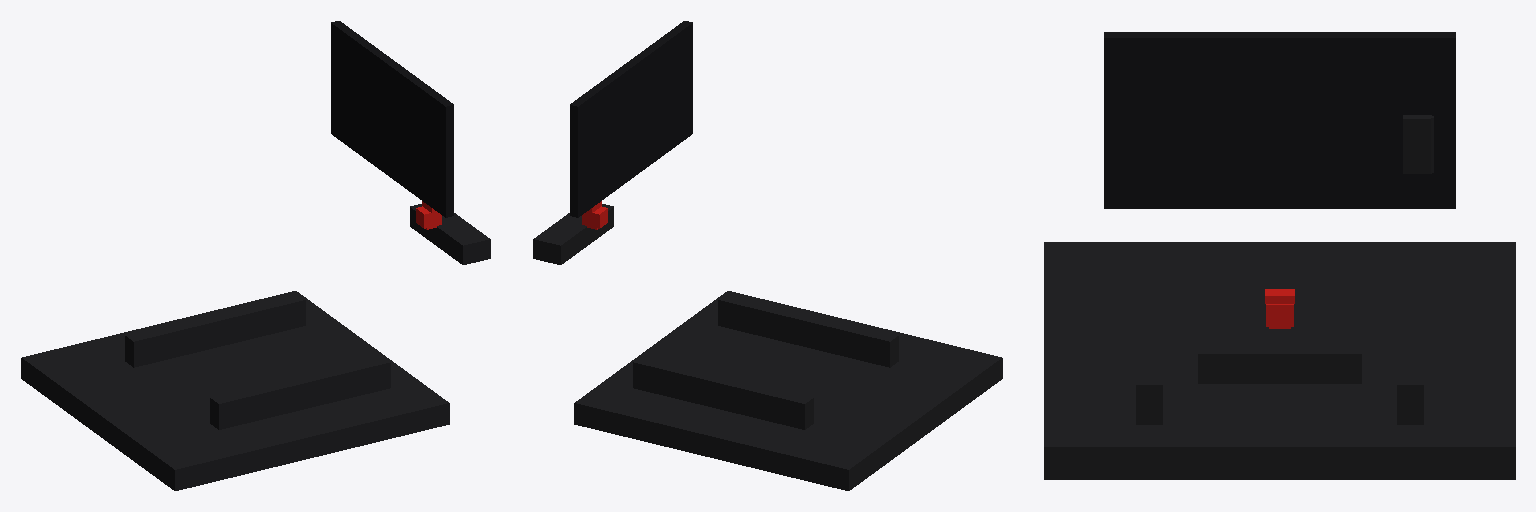
robot.urdf — retro_stainless_air_fryer:
<robot name="retro_stainless_air_fryer">
  <material name="stainless">
    <color rgba="0.78 0.8 0.82 1" />
    </material>
  <material name="panel_black">
    <color rgba="0.11 0.11 0.12 1" />
    </material>
  <material name="trim_black">
    <color rgba="0.15 0.15 0.16 1" />
    </material>
  <material name="basket_dark">
    <color rgba="0.17 0.17 0.18 1" />
    </material>
  <material name="knob_black">
    <color rgba="0.1 0.1 0.11 1" />
    </material>
  <material name="latch_red">
    <color rgba="0.82 0.14 0.12 1" />
    </material>
  <link name="body">
    <visual name="housing_shell">
      <geometry>
        <mesh filename="assets/meshes/air_fryer_body_shell.obj" />
        </geometry>
      <material name="stainless">
        <color rgba="0.78 0.8 0.82 1" />
        </material>
      </visual>
    <visual name="base_band">
      <origin xyz="-0.002 0 0.012" rpy="0 0 0" />
      <geometry>
        <box size="0.32 0.31 0.024" />
        </geometry>
      <material name="trim_black">
        <color rgba="0.15 0.15 0.16 1" />
        </material>
      </visual>
    <visual name="control_panel">
      <origin xyz="0.181 0 0.272" rpy="0 0 0" />
      <geometry>
        <box size="0.01 0.232 0.124" />
        </geometry>
      <material name="panel_black">
        <color rgba="0.11 0.11 0.12 1" />
        </material>
      </visual>
    <visual name="switch_bezel">
      <origin xyz="0.181 0.09 0.258" rpy="0 0 0" />
      <geometry>
        <box size="0.01 0.034 0.052" />
        </geometry>
      <material name="panel_black">
        <color rgba="0.11 0.11 0.12 1" />
        </material>
      </visual>
    <visual name="drawer_guide_0">
      <origin xyz="0.024 -0.086 0.038" rpy="0 0 0" />
      <geometry>
        <box size="0.2 0.018 0.03" />
        </geometry>
      <material name="trim_black">
        <color rgba="0.15 0.15 0.16 1" />
        </material>
      </visual>
    <visual name="drawer_guide_1">
      <origin xyz="0.024 0.086 0.038" rpy="0 0 0" />
      <geometry>
        <box size="0.2 0.018 0.03" />
        </geometry>
      <material name="trim_black">
        <color rgba="0.15 0.15 0.16 1" />
        </material>
      </visual>
    <visual>
      <origin xyz="-0.115 -0.105 0.004" rpy="0 0 0" />
      <geometry>
        <cylinder radius="0.018" length="0.01" />
        </geometry>
      <material name="trim_black">
        <color rgba="0.15 0.15 0.16 1" />
        </material>
      </visual>
    <visual>
      <origin xyz="-0.115 0.105 0.004" rpy="0 0 0" />
      <geometry>
        <cylinder radius="0.018" length="0.01" />
        </geometry>
      <material name="trim_black">
        <color rgba="0.15 0.15 0.16 1" />
        </material>
      </visual>
    <visual>
      <origin xyz="0.115 -0.105 0.004" rpy="0 0 0" />
      <geometry>
        <cylinder radius="0.018" length="0.01" />
        </geometry>
      <material name="trim_black">
        <color rgba="0.15 0.15 0.16 1" />
        </material>
      </visual>
    <visual>
      <origin xyz="0.115 0.105 0.004" rpy="0 0 0" />
      <geometry>
        <cylinder radius="0.018" length="0.01" />
        </geometry>
      <material name="trim_black">
        <color rgba="0.15 0.15 0.16 1" />
        </material>
      </visual>
    <collision name="housing_shell">
      <geometry>
        <mesh filename="assets/meshes/air_fryer_body_shell.obj" />
        </geometry>
      </collision>
    <collision name="base_band">
      <origin xyz="-0.002 0 0.012" rpy="0 0 0" />
      <geometry>
        <box size="0.32 0.31 0.024" />
        </geometry>
      </collision>
    <collision name="control_panel">
      <origin xyz="0.181 0 0.272" rpy="0 0 0" />
      <geometry>
        <box size="0.01 0.232 0.124" />
        </geometry>
      </collision>
    <collision name="switch_bezel">
      <origin xyz="0.181 0.09 0.258" rpy="0 0 0" />
      <geometry>
        <box size="0.01 0.034 0.052" />
        </geometry>
      </collision>
    <collision name="drawer_guide_0">
      <origin xyz="0.024 -0.086 0.038" rpy="0 0 0" />
      <geometry>
        <box size="0.2 0.018 0.03" />
        </geometry>
      </collision>
    <collision name="drawer_guide_1">
      <origin xyz="0.024 0.086 0.038" rpy="0 0 0" />
      <geometry>
        <box size="0.2 0.018 0.03" />
        </geometry>
      </collision>
    <collision>
      <origin xyz="-0.115 -0.105 0.004" rpy="0 0 0" />
      <geometry>
        <cylinder radius="0.018" length="0.01" />
        </geometry>
      </collision>
    <collision>
      <origin xyz="-0.115 0.105 0.004" rpy="0 0 0" />
      <geometry>
        <cylinder radius="0.018" length="0.01" />
        </geometry>
      </collision>
    <collision>
      <origin xyz="0.115 -0.105 0.004" rpy="0 0 0" />
      <geometry>
        <cylinder radius="0.018" length="0.01" />
        </geometry>
      </collision>
    <collision>
      <origin xyz="0.115 0.105 0.004" rpy="0 0 0" />
      <geometry>
        <cylinder radius="0.018" length="0.01" />
        </geometry>
      </collision>
    </link>
  <link name="drawer">
    <visual name="drawer_shell">
      <geometry>
        <mesh filename="assets/meshes/air_fryer_drawer_shell.obj" />
        </geometry>
      <material name="stainless">
        <color rgba="0.78 0.8 0.82 1" />
        </material>
      </visual>
    <visual name="handle_cover">
      <origin xyz="0.066 0 0.077" rpy="0 0 0" />
      <geometry>
        <box size="0.032 0.108 0.022" />
        </geometry>
      <material name="trim_black">
        <color rgba="0.15 0.15 0.16 1" />
        </material>
      </visual>
    <collision name="drawer_shell">
      <geometry>
        <mesh filename="assets/meshes/air_fryer_drawer_shell.obj" />
        </geometry>
      </collision>
    <collision name="handle_cover">
      <origin xyz="0.066 0 0.077" rpy="0 0 0" />
      <geometry>
        <box size="0.032 0.108 0.022" />
        </geometry>
      </collision>
    </link>
  <link name="timer_dial">
    <visual name="timer_knob">
      <origin xyz="0 0 0" rpy="0 1.5708 0" />
      <geometry>
        <mesh filename="assets/meshes/timer_dial.obj" />
        </geometry>
      <material name="knob_black">
        <color rgba="0.1 0.1 0.11 1" />
        </material>
      </visual>
    <collision name="timer_knob">
      <origin xyz="0 0 0" rpy="0 1.5708 0" />
      <geometry>
        <mesh filename="assets/meshes/timer_dial.obj" />
        </geometry>
      </collision>
    </link>
  <link name="temperature_dial">
    <visual name="temperature_knob">
      <origin xyz="0 0 0" rpy="0 1.5708 0" />
      <geometry>
        <mesh filename="assets/meshes/temperature_dial.obj" />
        </geometry>
      <material name="knob_black">
        <color rgba="0.1 0.1 0.11 1" />
        </material>
      </visual>
    <collision name="temperature_knob">
      <origin xyz="0 0 0" rpy="0 1.5708 0" />
      <geometry>
        <mesh filename="assets/meshes/temperature_dial.obj" />
        </geometry>
      </collision>
    </link>
  <link name="power_rocker">
    <visual name="rocker_paddle">
      <origin xyz="0.003 -0.009 0.02" rpy="0 0 0" />
      <geometry>
        <box size="0.006 0.018 0.04" />
        </geometry>
      <material name="trim_black">
        <color rgba="0.15 0.15 0.16 1" />
        </material>
      </visual>
    <visual name="rocker_hinge">
      <origin xyz="0.0025 0 0.02" rpy="0 0 0" />
      <geometry>
        <cylinder radius="0.0025" length="0.04" />
        </geometry>
      <material name="trim_black">
        <color rgba="0.15 0.15 0.16 1" />
        </material>
      </visual>
    <collision name="rocker_paddle">
      <origin xyz="0.003 -0.009 0.02" rpy="0 0 0" />
      <geometry>
        <box size="0.006 0.018 0.04" />
        </geometry>
      </collision>
    <collision name="rocker_hinge">
      <origin xyz="0.0025 0 0.02" rpy="0 0 0" />
      <geometry>
        <cylinder radius="0.0025" length="0.04" />
        </geometry>
      </collision>
    </link>
  <link name="release_latch">
    <visual name="latch_cap">
      <origin xyz="0 0 0.008" rpy="0 0 0" />
      <geometry>
        <box size="0.02 0.018 0.016" />
        </geometry>
      <material name="latch_red">
        <color rgba="0.82 0.14 0.12 1" />
        </material>
      </visual>
    <visual name="latch_thumb">
      <origin xyz="0.003 0 0.019" rpy="0 0 0" />
      <geometry>
        <box size="0.01 0.02 0.006" />
        </geometry>
      <material name="latch_red">
        <color rgba="0.82 0.14 0.12 1" />
        </material>
      </visual>
    <visual name="latch_tongue">
      <origin xyz="0 0 -0.0015" rpy="0 0 0" />
      <geometry>
        <box size="0.012 0.014 0.003" />
        </geometry>
      <material name="latch_red">
        <color rgba="0.82 0.14 0.12 1" />
        </material>
      </visual>
    <collision name="latch_cap">
      <origin xyz="0 0 0.008" rpy="0 0 0" />
      <geometry>
        <box size="0.02 0.018 0.016" />
        </geometry>
      </collision>
    <collision name="latch_thumb">
      <origin xyz="0.003 0 0.019" rpy="0 0 0" />
      <geometry>
        <box size="0.01 0.02 0.006" />
        </geometry>
      </collision>
    <collision name="latch_tongue">
      <origin xyz="0 0 -0.0015" rpy="0 0 0" />
      <geometry>
        <box size="0.012 0.014 0.003" />
        </geometry>
      </collision>
    </link>
  <joint name="body_to_drawer" type="prismatic">
    <origin xyz="0.182 0 0.053" rpy="0 0 0" />
    <parent link="body" />
    <child link="drawer" />
    <axis xyz="1 0 0" />
    <limit effort="80" velocity="0.22" lower="0" upper="0.18" />
    </joint>
  <joint name="body_to_timer_dial" type="continuous">
    <origin xyz="0.186 0 0.314" rpy="0 0 0" />
    <parent link="body" />
    <child link="timer_dial" />
    <axis xyz="1 0 0" />
    <limit effort="0.4" velocity="8" />
    </joint>
  <joint name="body_to_temperature_dial" type="continuous">
    <origin xyz="0.186 0 0.25" rpy="0 0 0" />
    <parent link="body" />
    <child link="temperature_dial" />
    <axis xyz="1 0 0" />
    <limit effort="0.4" velocity="8" />
    </joint>
  <joint name="body_to_power_rocker" type="revolute">
    <origin xyz="0.186 0.099 0.238" rpy="0 0 0" />
    <parent link="body" />
    <child link="power_rocker" />
    <axis xyz="0 0 1" />
    <limit effort="1" velocity="2" lower="-0.18" upper="0.32" />
    </joint>
  <joint name="drawer_to_release_latch" type="prismatic">
    <origin xyz="0.041 0 0.093" rpy="0 0 0" />
    <parent link="drawer" />
    <child link="release_latch" />
    <axis xyz="0 0 1" />
    <limit effort="2" velocity="0.12" lower="0" upper="0.018" />
    </joint>
  </robot>

--- What the picture shows (computed from the rendered views, not written in the file) ---
3 views of the same robot in one strip: view 1: azimuth 30°, elevation 25°; view 2: azimuth 150°, elevation 25°; view 3: azimuth 270°, elevation 25° (orthographic).
Robot: retro_stainless_air_fryer — 6 links, 5 joints (1 revolute, 2 continuous, 2 prismatic); root link body; default pose: all joints at 0.
Links seen in each view (by area): view 1: body, drawer; view 2: body, drawer; view 3: body, drawer, power_rocker, release_latch.
Boxes of the visible links, box(x1,y1,x2,y2) form: body: box(21, 21, 453, 490); drawer: box(410, 204, 490, 264); body: box(570, 21, 1002, 490); drawer: box(533, 204, 613, 264); body: box(1044, 32, 1515, 479); drawer: box(1198, 334, 1361, 383); power_rocker: box(1403, 115, 1433, 173); release_latch: box(1265, 289, 1294, 328).
Size in the robot's own frame: 0.426 by 0.31 by 0.335 metres.
Meshes: 4 distinct files referenced, 0 mesh visuals loaded (none loaded); not drawn: 4 (reference not matched to a file when rendering).
